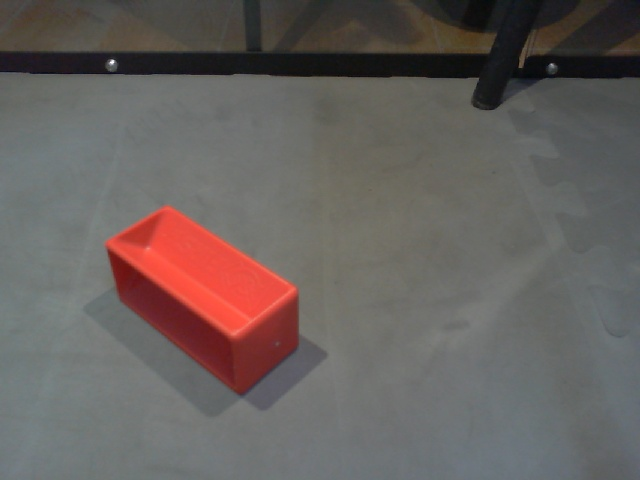RedSample: (104, 203, 302, 397)
